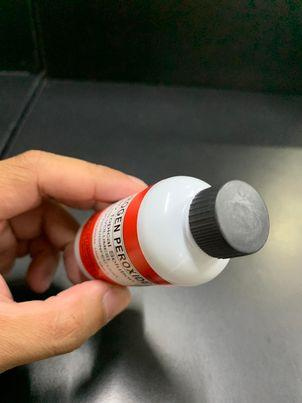-Bottle-: (74, 175, 271, 286)
